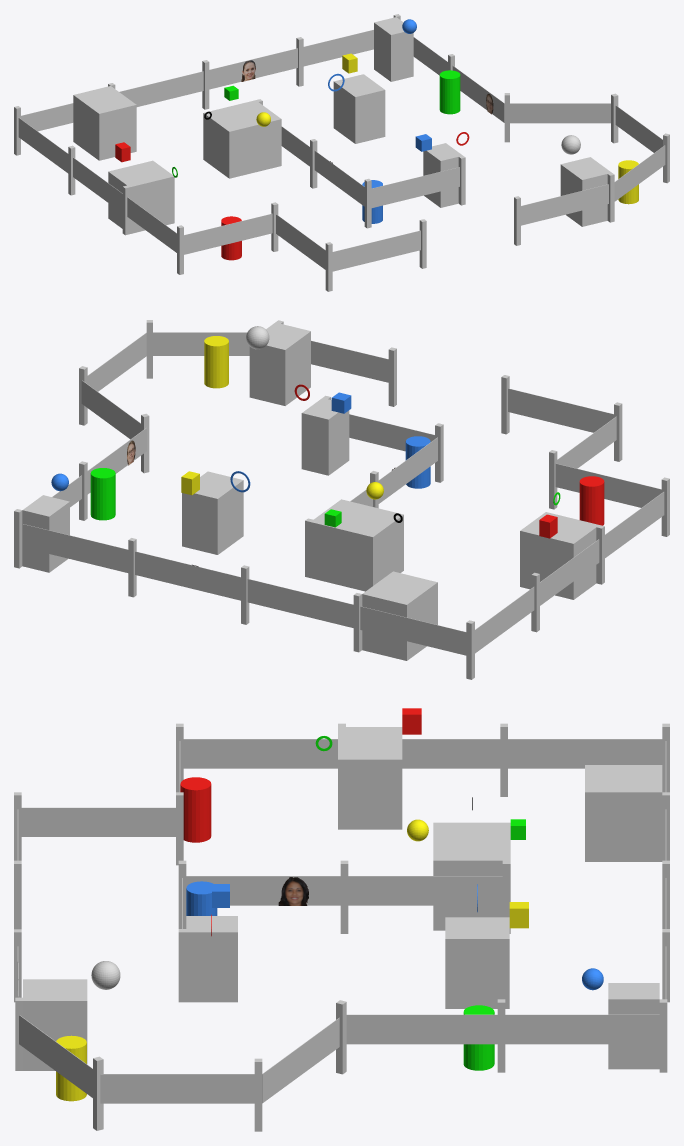
File: rins_task1_p1.dae
3 views of the same model, one above another, from view 1: azimuth 30°, elevation 25°; view 2: azimuth 150°, elevation 25°; view 3: azimuth 270°, elevation 25° (orthographic). The views are drawn at different scales.
Parts seen in each view (by area): view 1: SketchUp (×24); view 2: SketchUp (×25); view 3: SketchUp (×24).
Boxes of the visible parts, box(x1,y1,x2,y2) form: SketchUp (×24): box(14, 14, 669, 291); SketchUp (×25): box(14, 320, 669, 679); SketchUp (×24): box(15, 723, 669, 1131).
Bounding box in the file's own units: 245 × 201 × 33.48.
9 materials, 3 textured.
